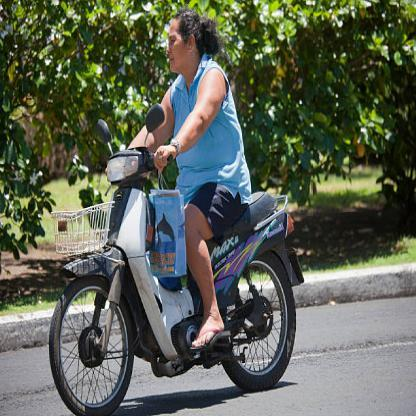Motorcycle: (42, 103, 301, 414)
